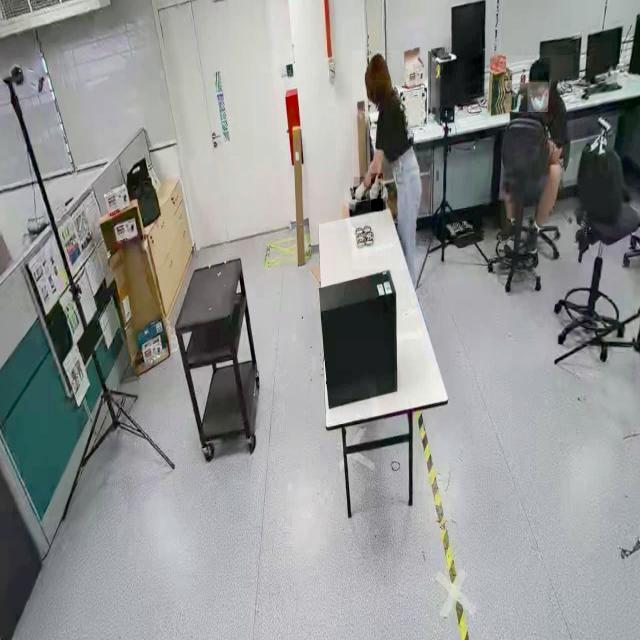face_mask: (528, 82, 548, 112)
hand_glove: (371, 174, 383, 212), (353, 177, 365, 203)
head_nohelmet: (365, 52, 391, 81), (529, 58, 550, 81)
person: (352, 51, 432, 270), (500, 55, 574, 253)
shoes: (497, 217, 519, 243)
